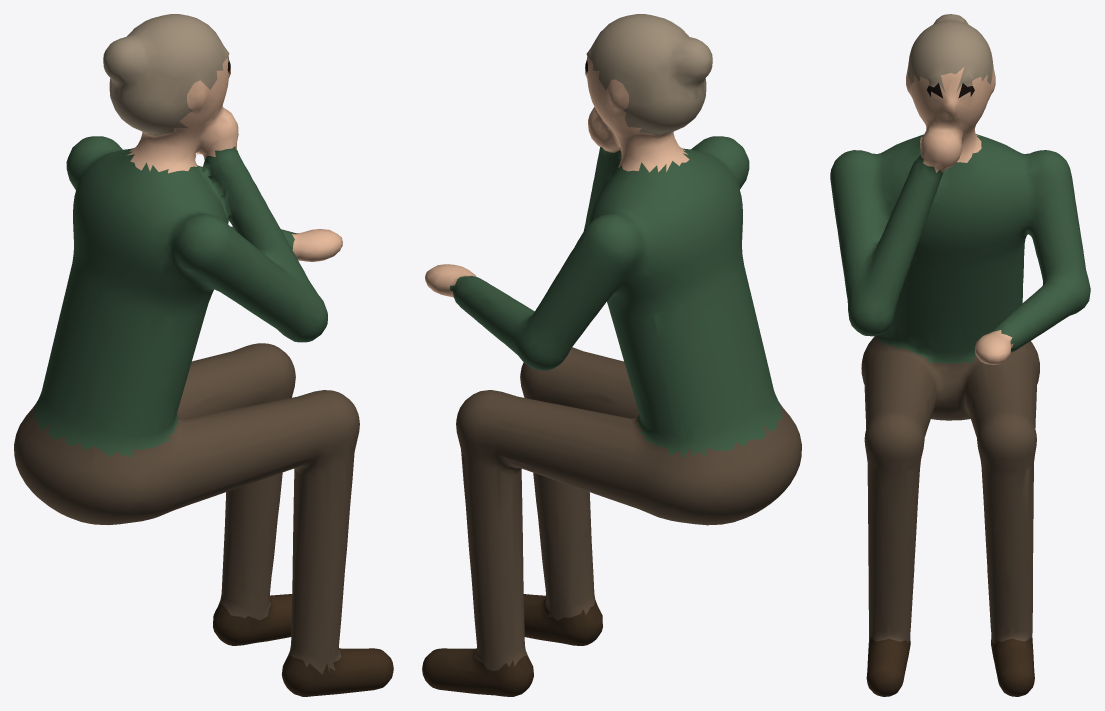
The model's file is SM_Crowd_Seated_C.glb.
The picture shows the model from 3 angles, left to right: view 1: azimuth 30°, elevation 25°; view 2: azimuth 150°, elevation 25°; view 3: azimuth 270°, elevation 25°; orthographic projection. The views are drawn at different scales.
Visible parts, largest first — view 1: SM_Crowd_Seated_C; view 2: SM_Crowd_Seated_C; view 3: SM_Crowd_Seated_C.
Boxes of the visible parts, bbox=[...] form: SM_Crowd_Seated_C: bbox=[14, 14, 393, 696]; SM_Crowd_Seated_C: bbox=[422, 14, 801, 696]; SM_Crowd_Seated_C: bbox=[830, 14, 1090, 696].
Bounding box in the file's own units: 0.7216 × 1.41 × 0.5556.
